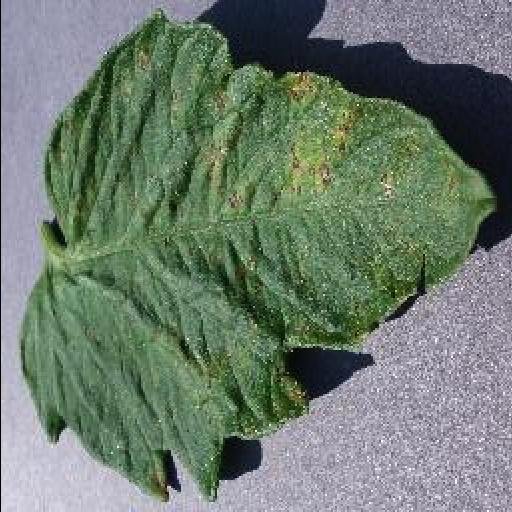disease_tomato: (20, 16, 496, 500)
